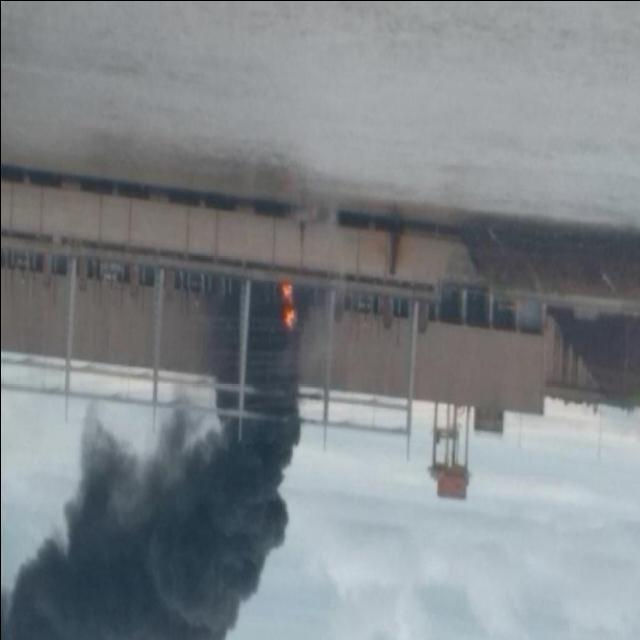Fire: (284, 283, 294, 325)
